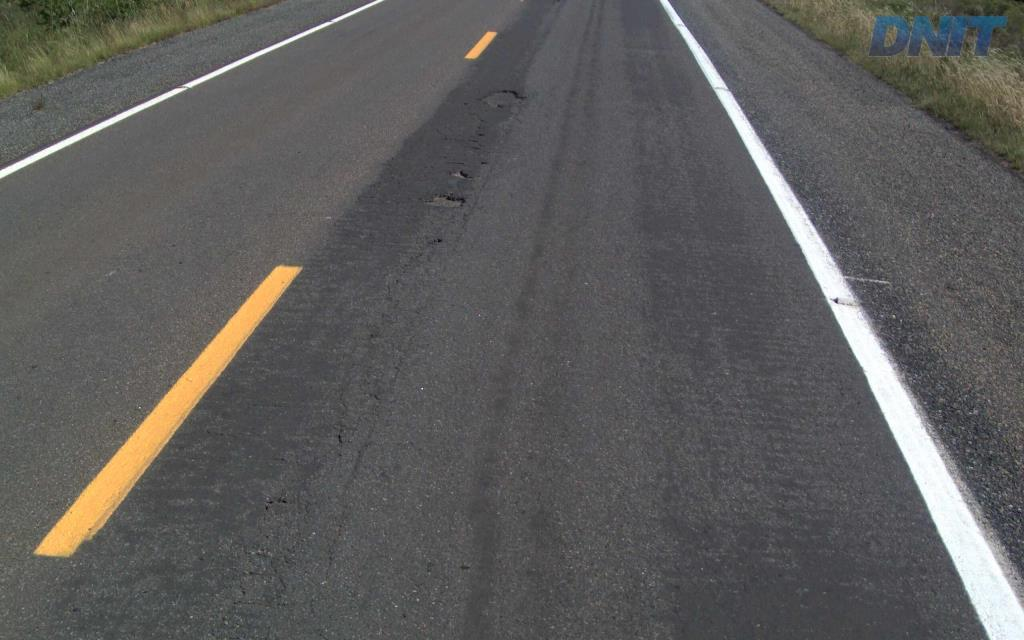pothole: (474, 84, 531, 111), (420, 189, 471, 210), (445, 168, 472, 181)
